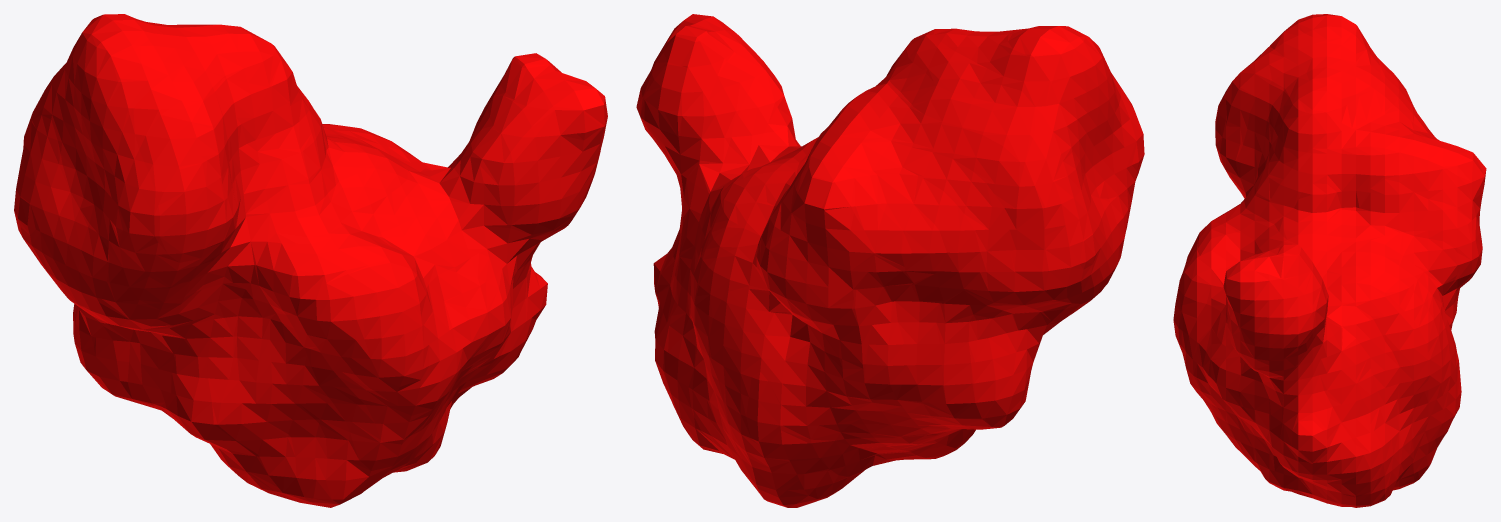
Rendered from cobB_coarse.dae.
3 views of the same model, side by side, from view 1: azimuth 30°, elevation 25°; view 2: azimuth 150°, elevation 25°; view 3: azimuth 270°, elevation 25° (orthographic). The views are drawn at different scales.
Visible parts, largest first — view 1: cobB; view 2: cobB; view 3: cobB.
Boxes of the visible parts, x1,y1,x2,y2 form: cobB: (14, 14, 607, 507); cobB: (636, 14, 1144, 507); cobB: (1173, 14, 1486, 507).
Size of the model in its own units: 62.57 by 60.08 by 43.59.
